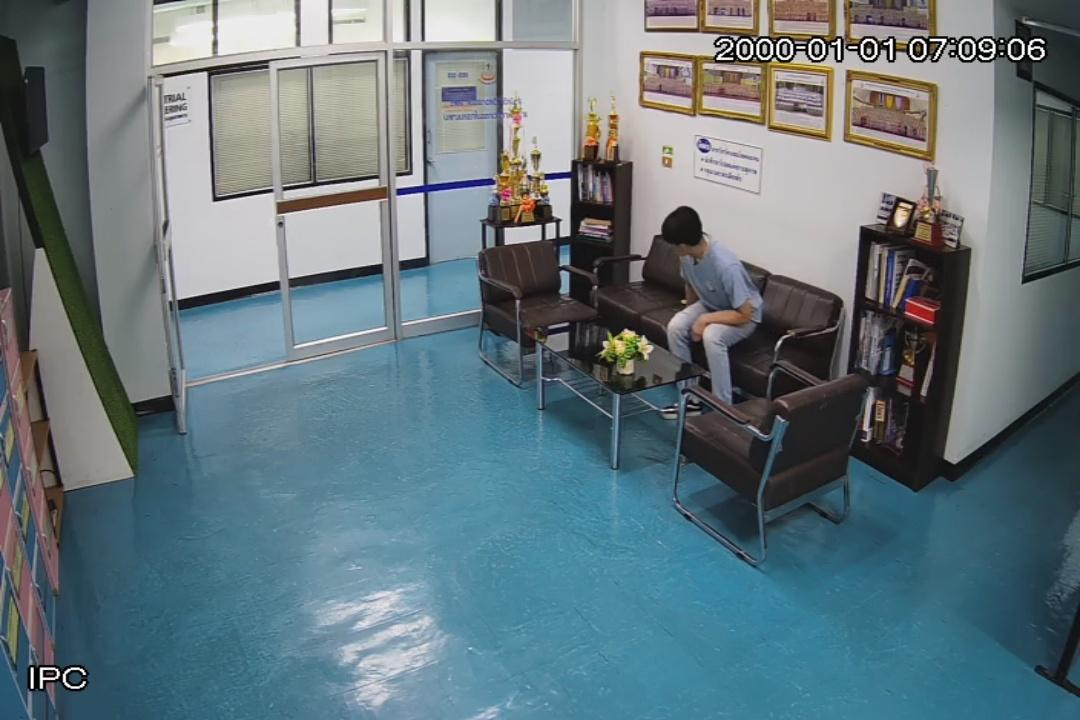normal: (658, 205, 767, 421)
